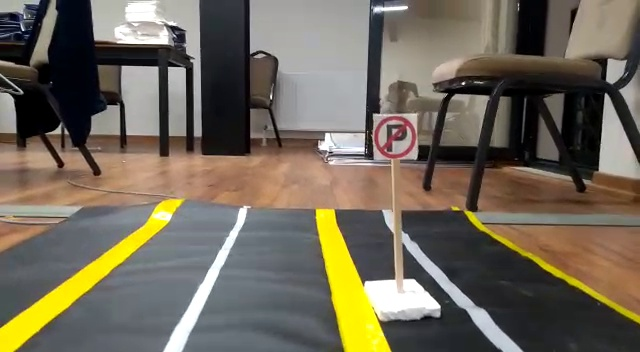park_yapilmaz: (372, 113, 417, 158)
